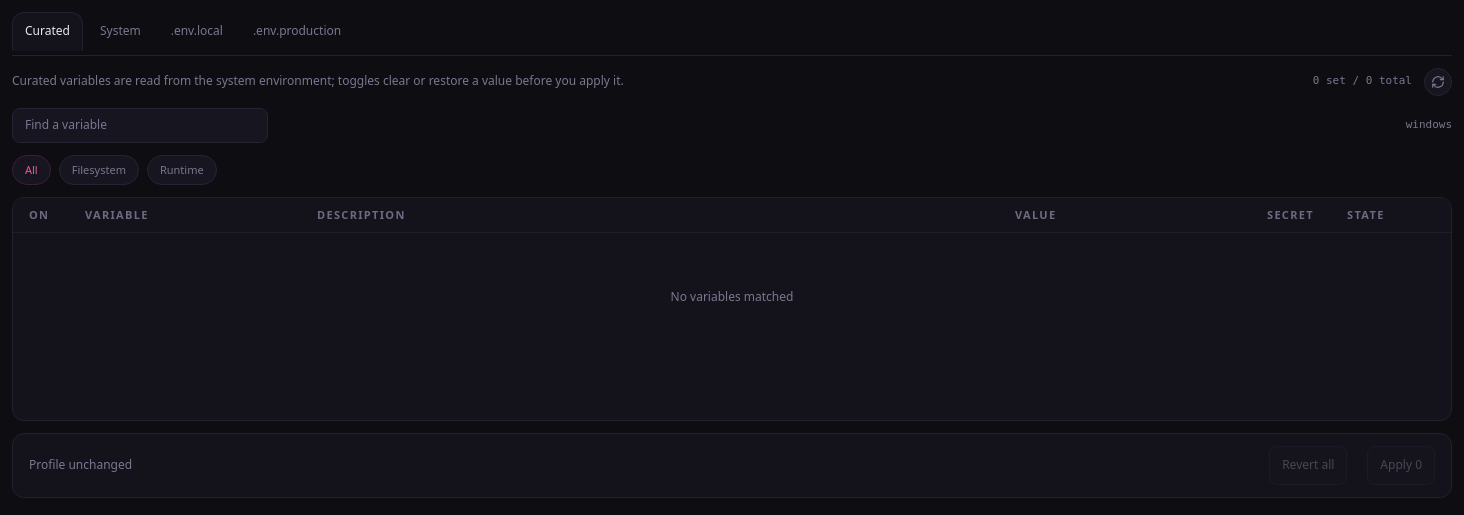
Test: revealing one value › re-masks everything when the user switches tab
Click the tab ".env.local": (197, 31) [158,12,236,51]
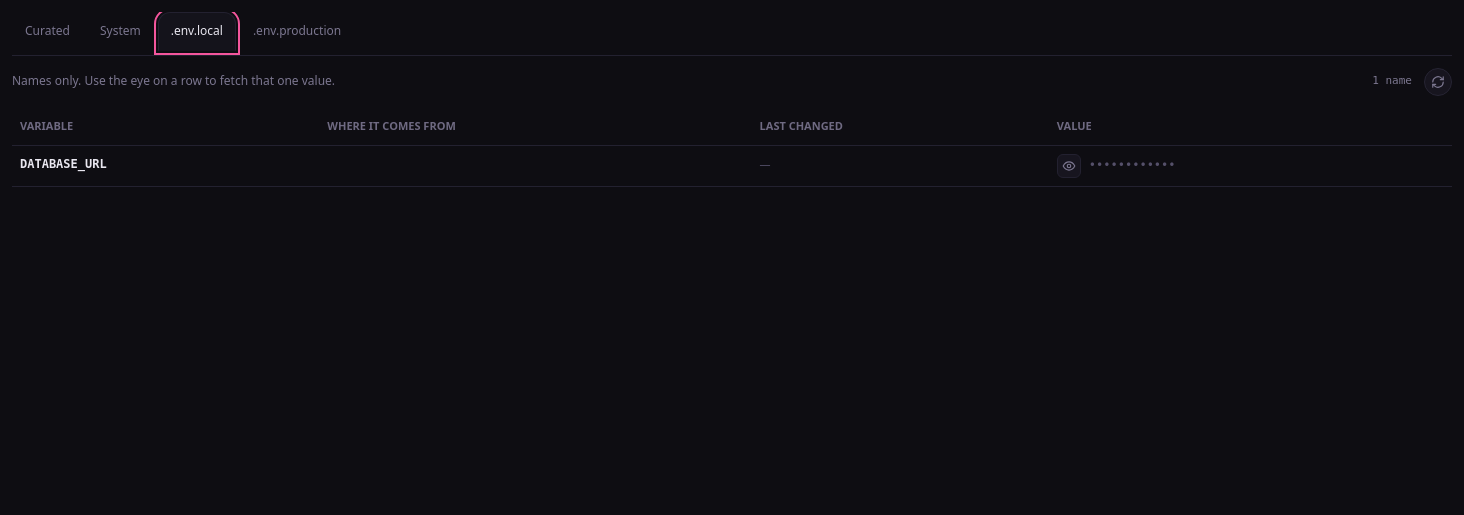
Click the button named "Reveal DATABASE_URL": (1069, 166) [1057,154,1081,178]
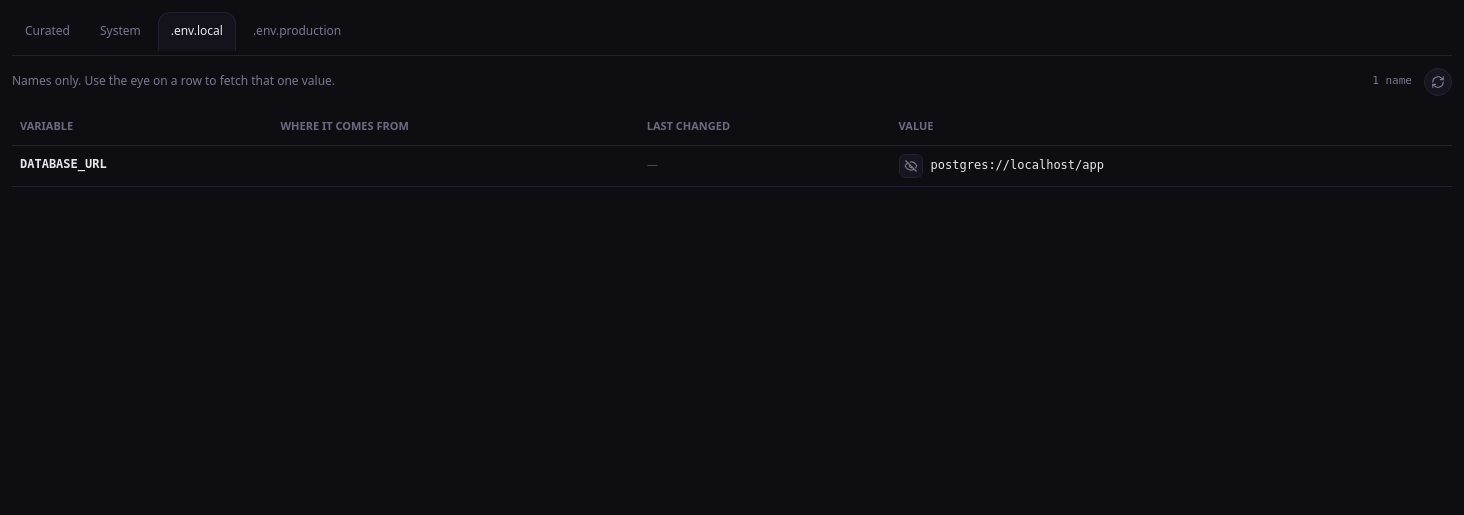
Expected: the text "postgres://localhost/app" is shown, [931,155,1104,176]
Click the tab ".env.production": (297, 31) [240,12,354,51]
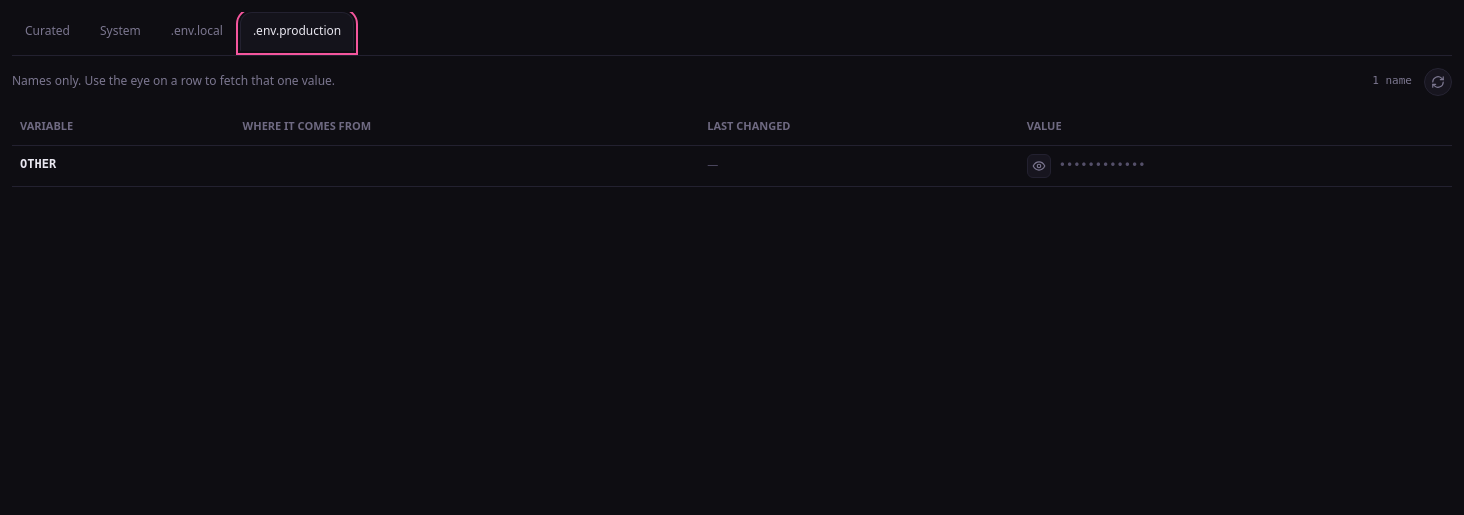
Click the tab ".env.local": (197, 31) [158,12,236,51]
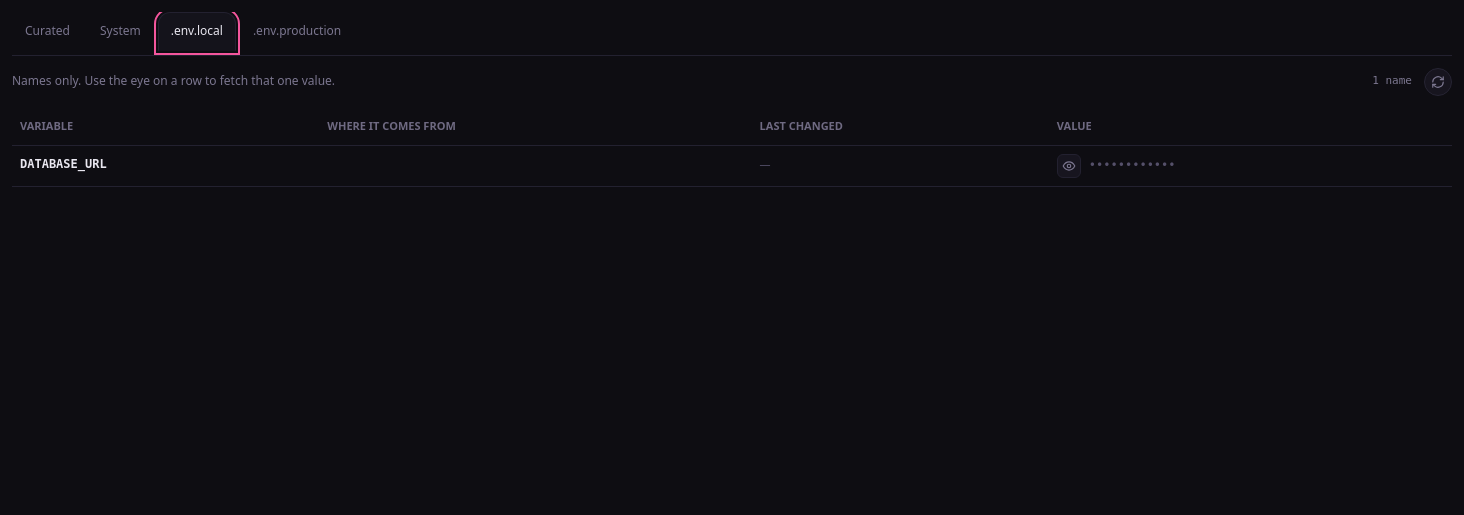
Expected: the text "postgres://localhost/app" is not shown
Expected: the picture named "DATABASE_URL is masked" is shown, [1089,155,1176,176]
